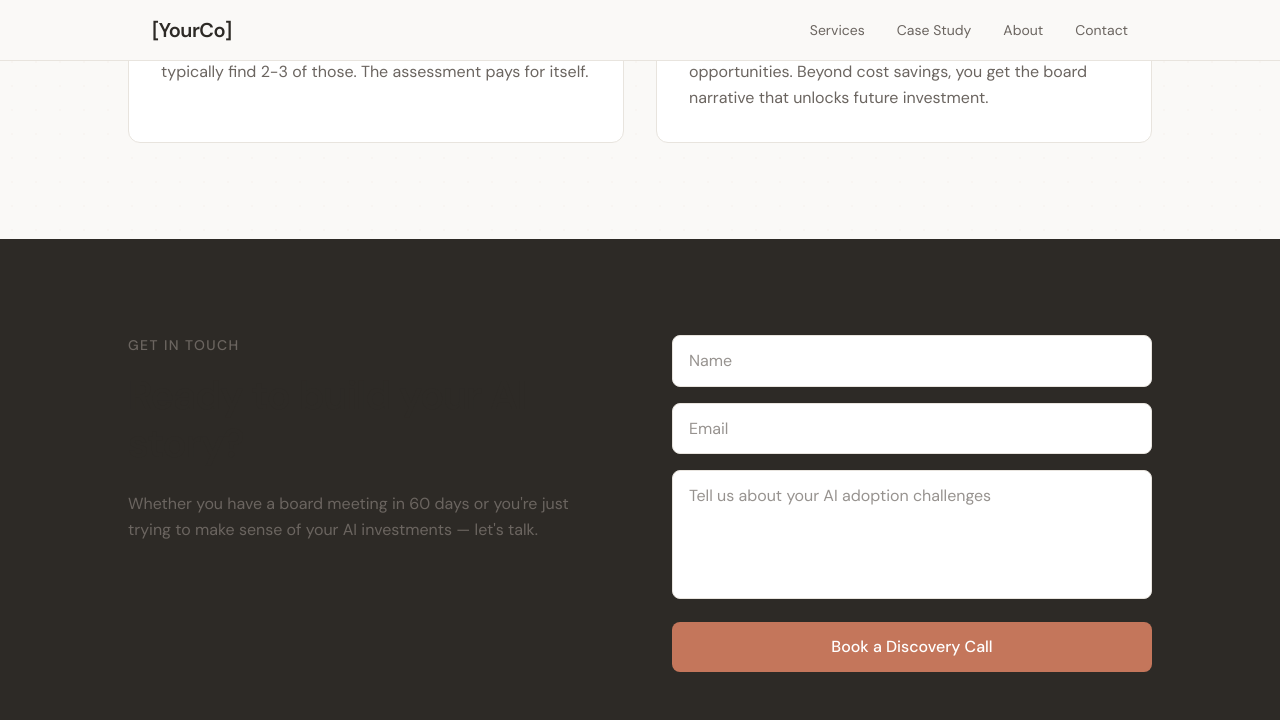
it: Contact Form › shows success message after valid submission
(page scrolled)
Type "Jane Doe" into the field with placeholder "Name".
click(912, 361); type("Jane Doe")  # box [672,335,1152,387]
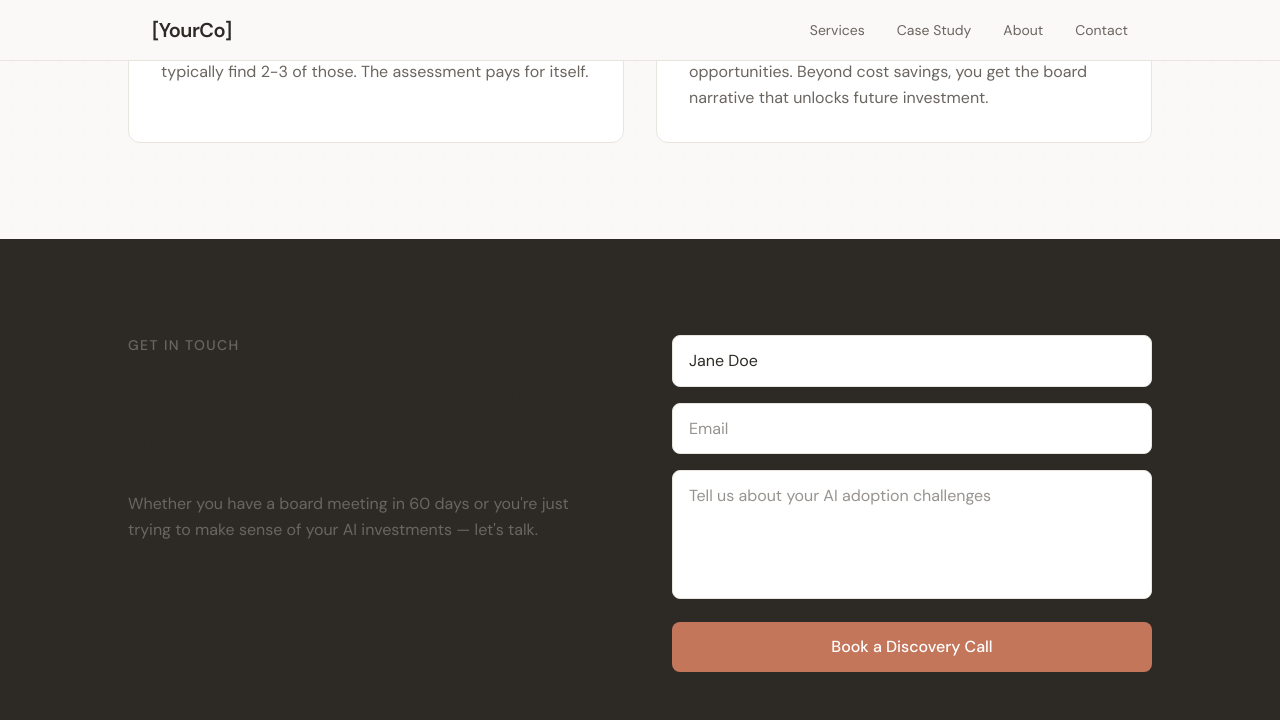
Type "jane@example.com" into the field with placeholder "Email".
click(912, 428); type("jane@example.com")  # box [672,403,1152,454]
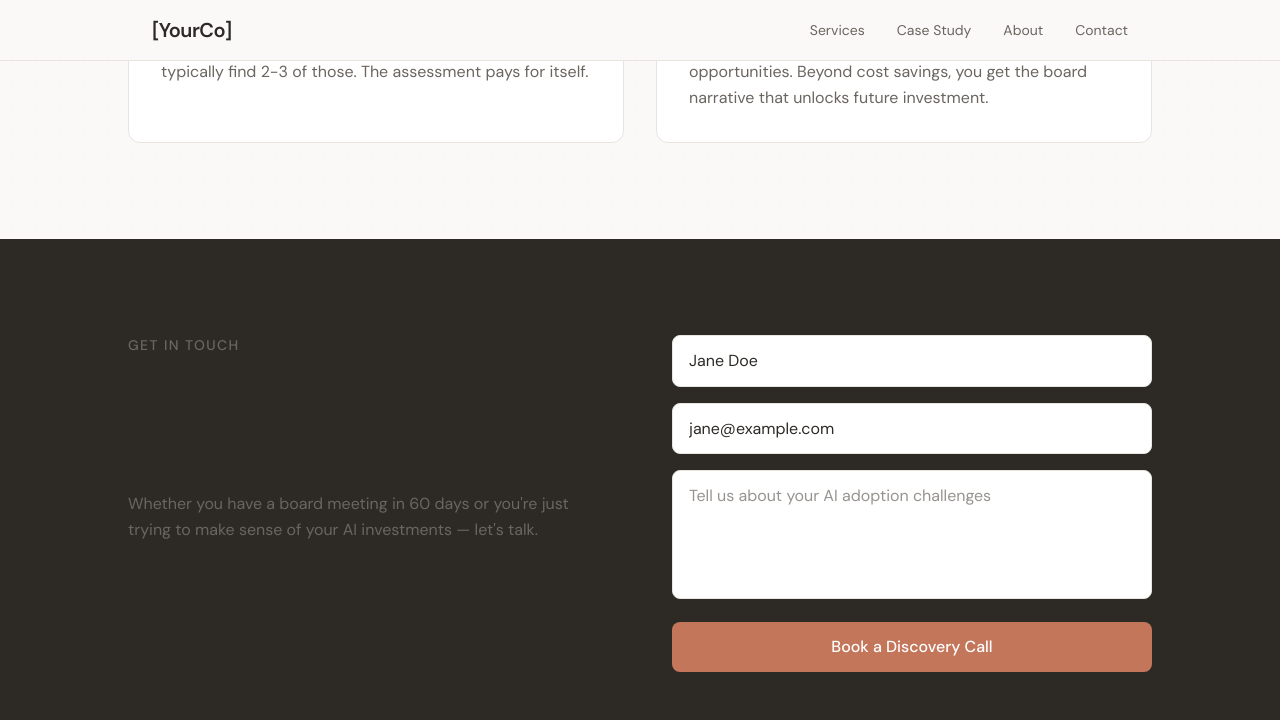
Submit the form with placeholder "Name", box [672,335,1152,672]
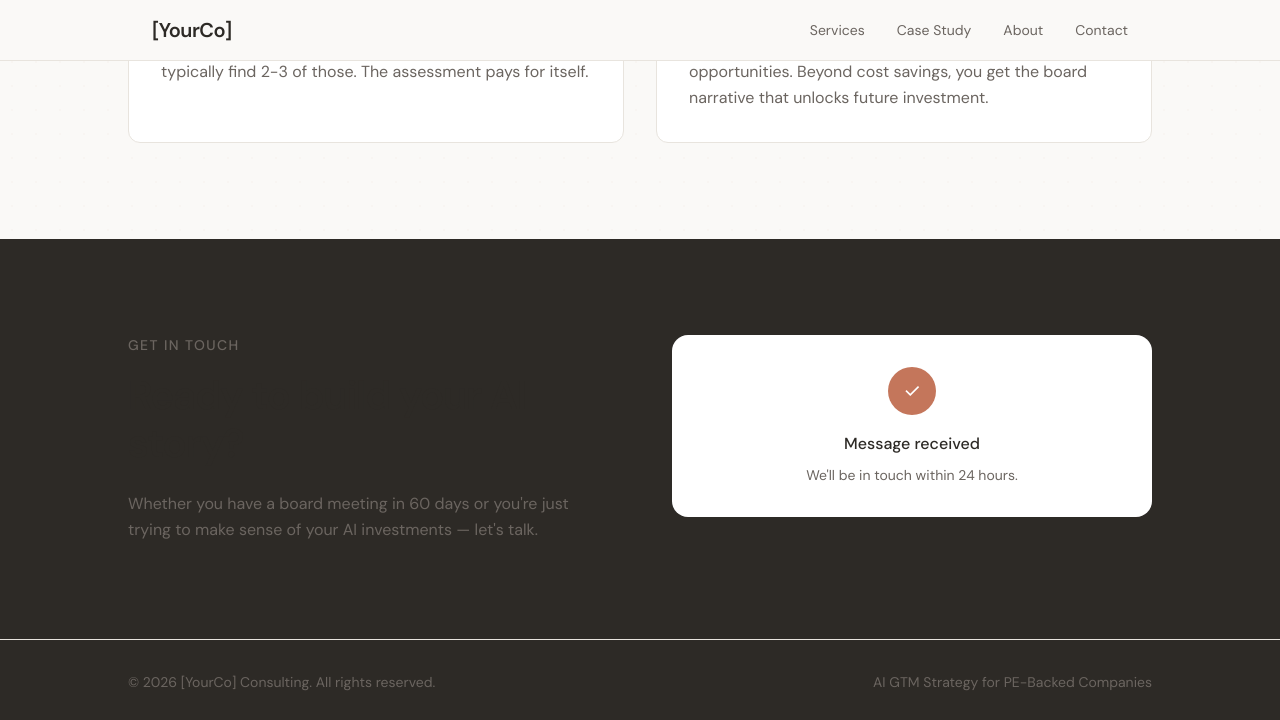
expect the text "Message received" is shown: met, box [844,433,980,454]
expect the text "We'll be in touch within 24 hours." is shown: met, box [806,466,1018,484]
